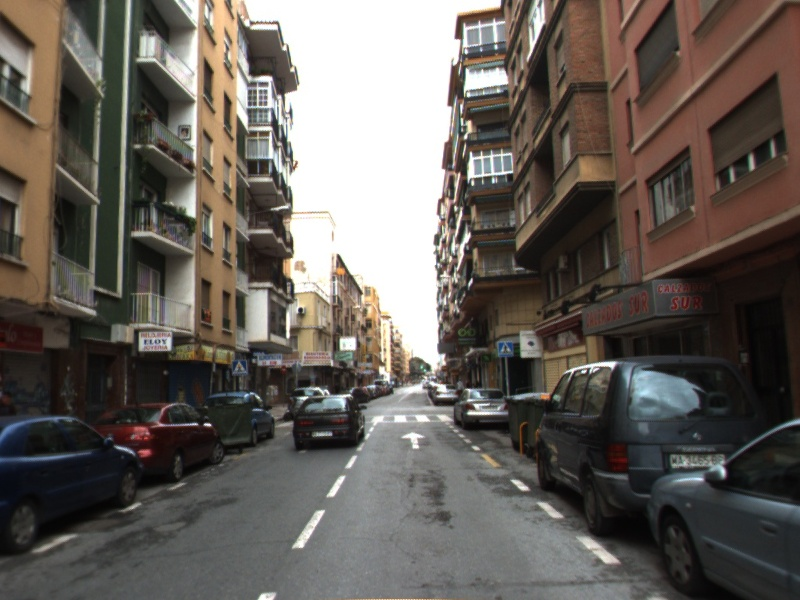STRAIGHT: (399, 430, 428, 451)
